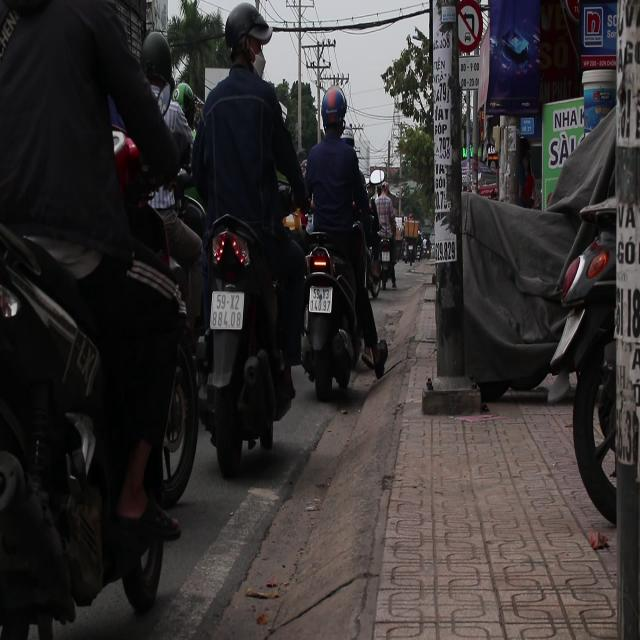motorbike: (0, 168, 165, 627), (196, 203, 300, 464), (296, 230, 368, 404)
